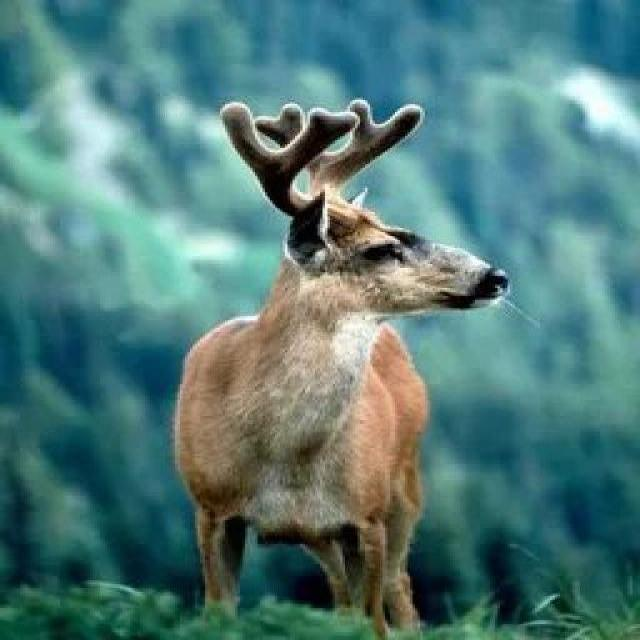deer: (61, 83, 536, 566)
